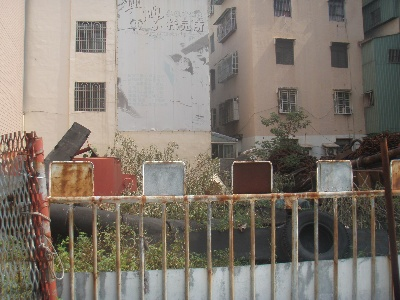tire: (284, 209, 349, 259)
